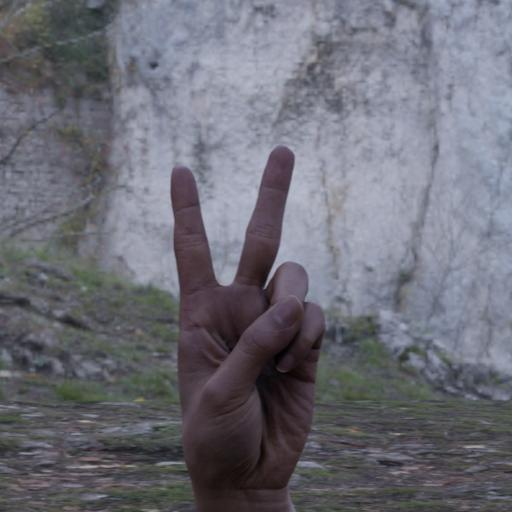V: (162, 141, 334, 497)
